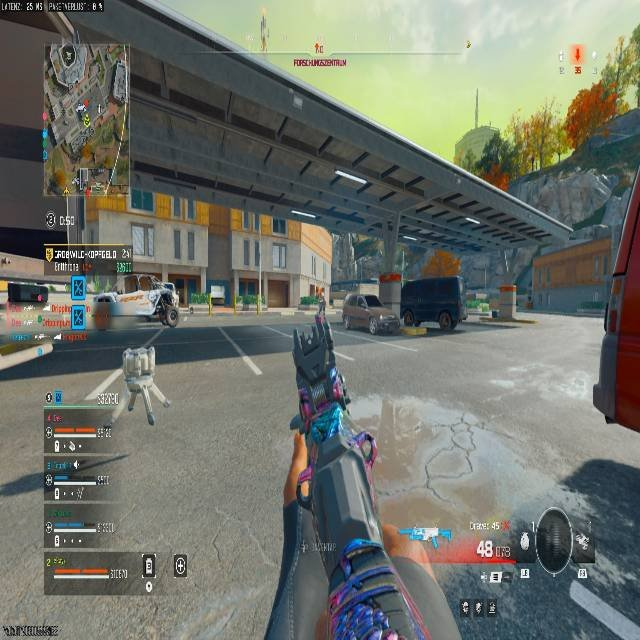head: (166, 282, 174, 291)
player: (112, 342, 158, 426), (144, 281, 179, 327)
